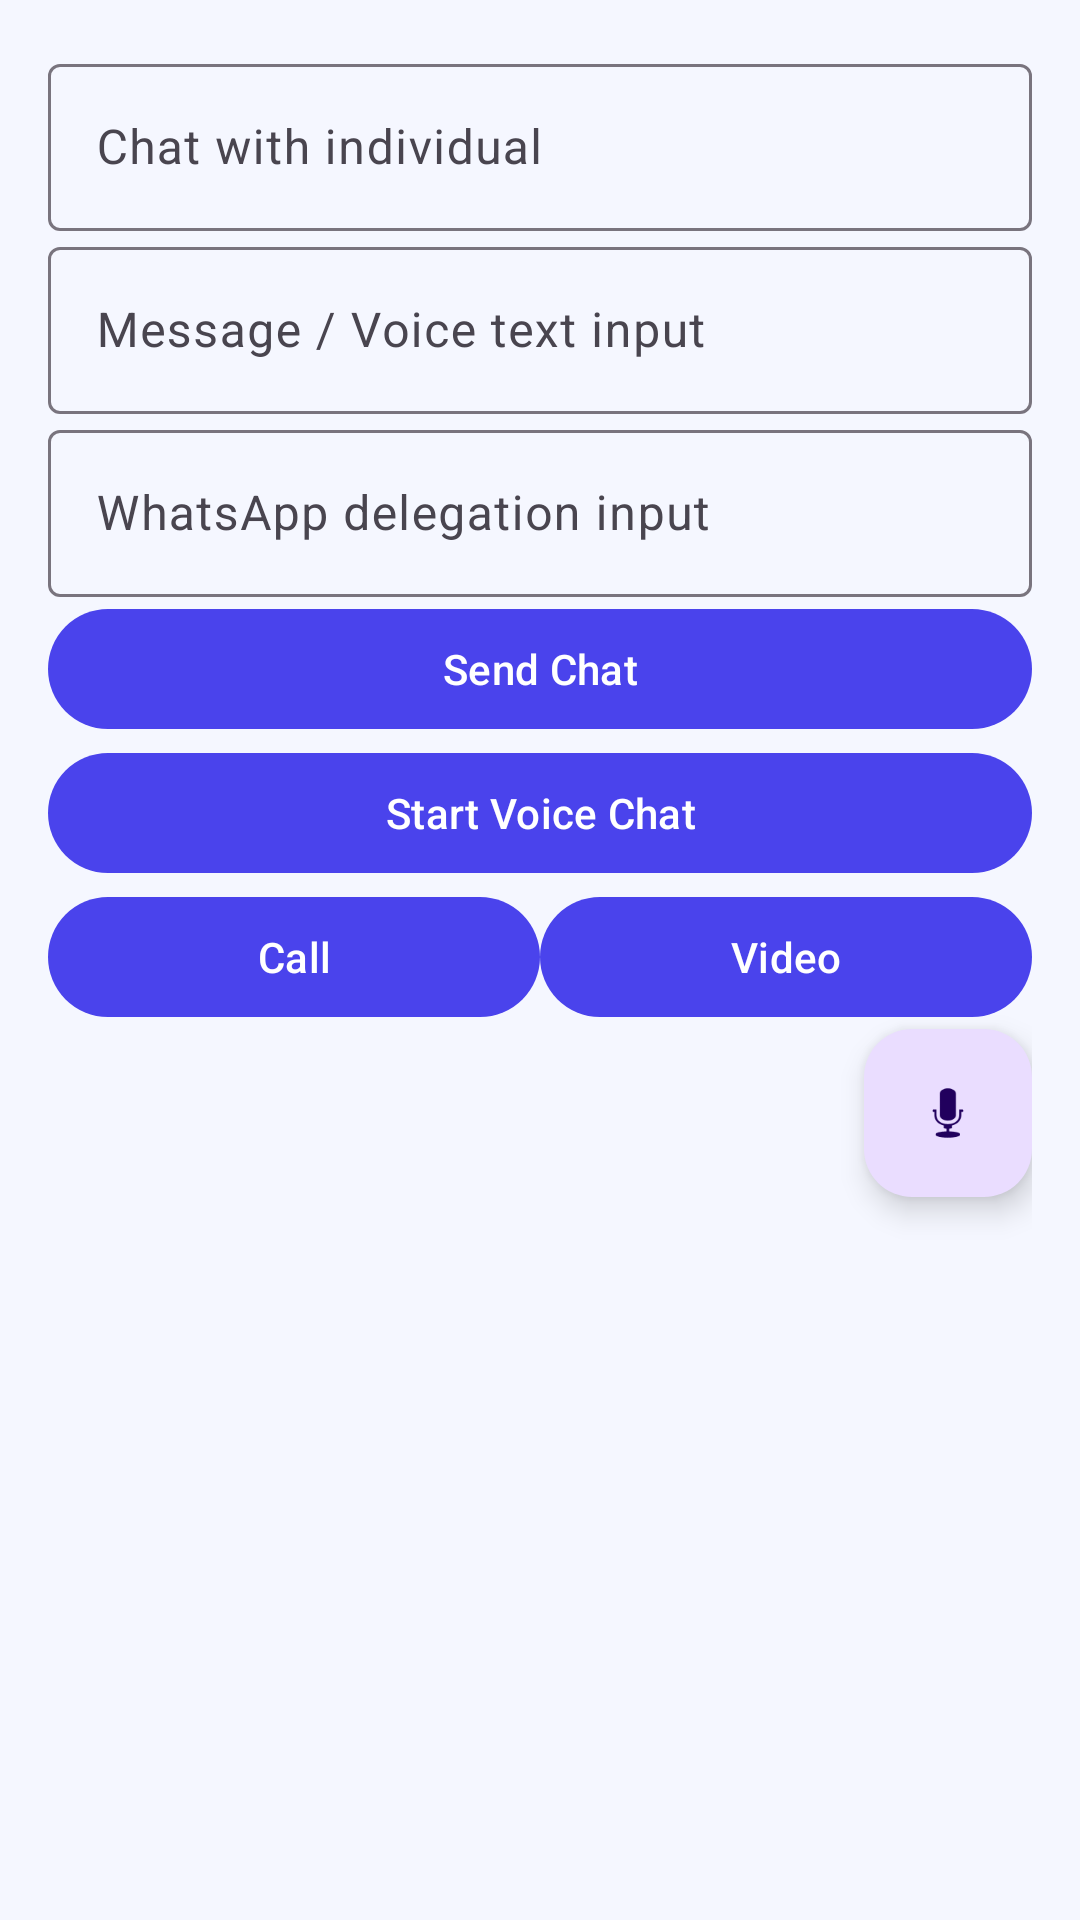

Screen size 1080px x 1920px. Icon name, then its box in pixels as detection(x1, y1, x2, y2):
Mic input: detection(864, 1029, 1032, 1197)
